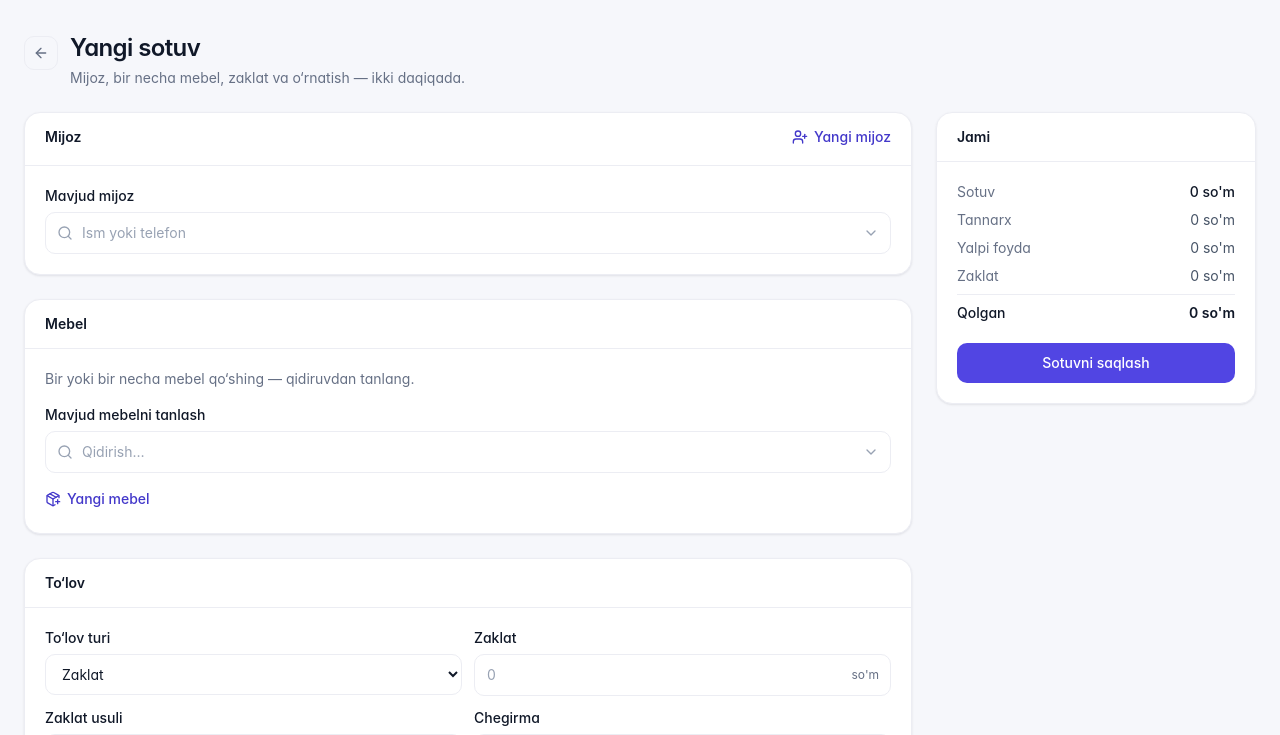
Test: NewSalePage › does not create a product when quick-create validation fails
Click the button with test id "sale-quick-product-toggle".
click(97, 499)  # box [45,489,150,509]
(page scrolled)
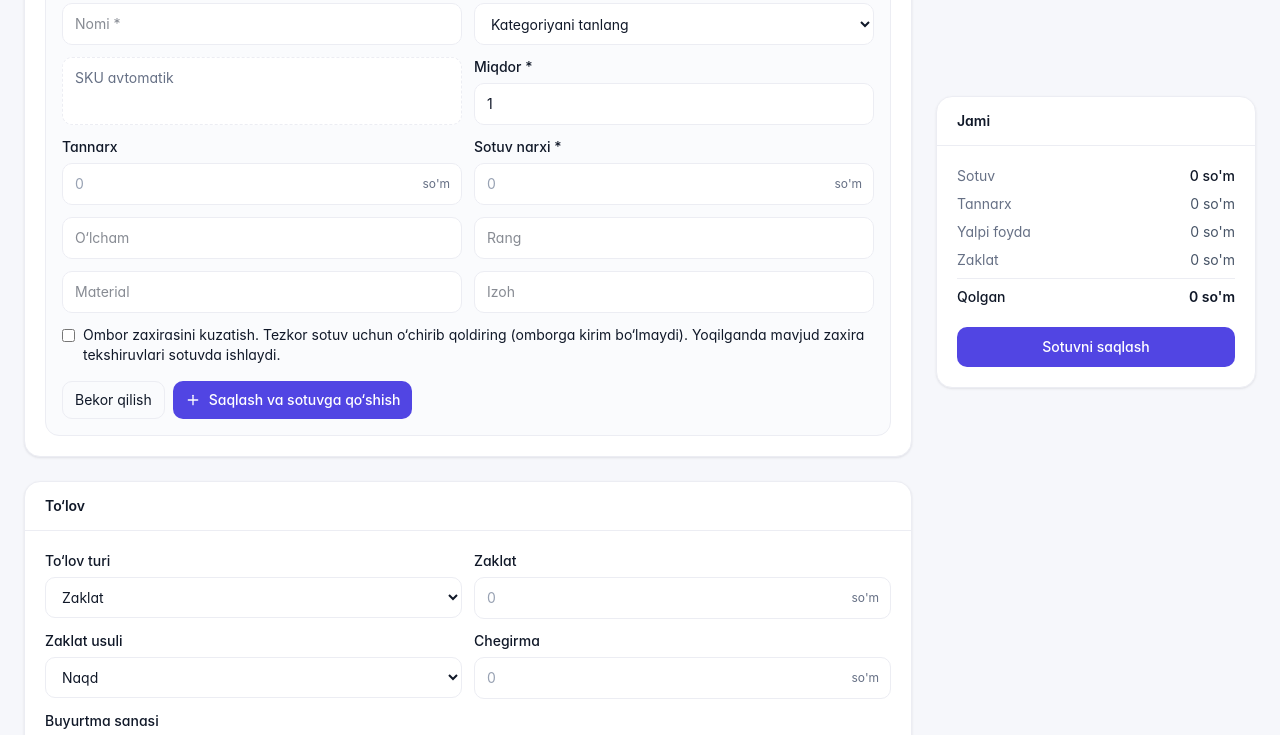
Click the button with test id "sale-quick-product-save".
click(293, 400)  # box [173,381,412,419]
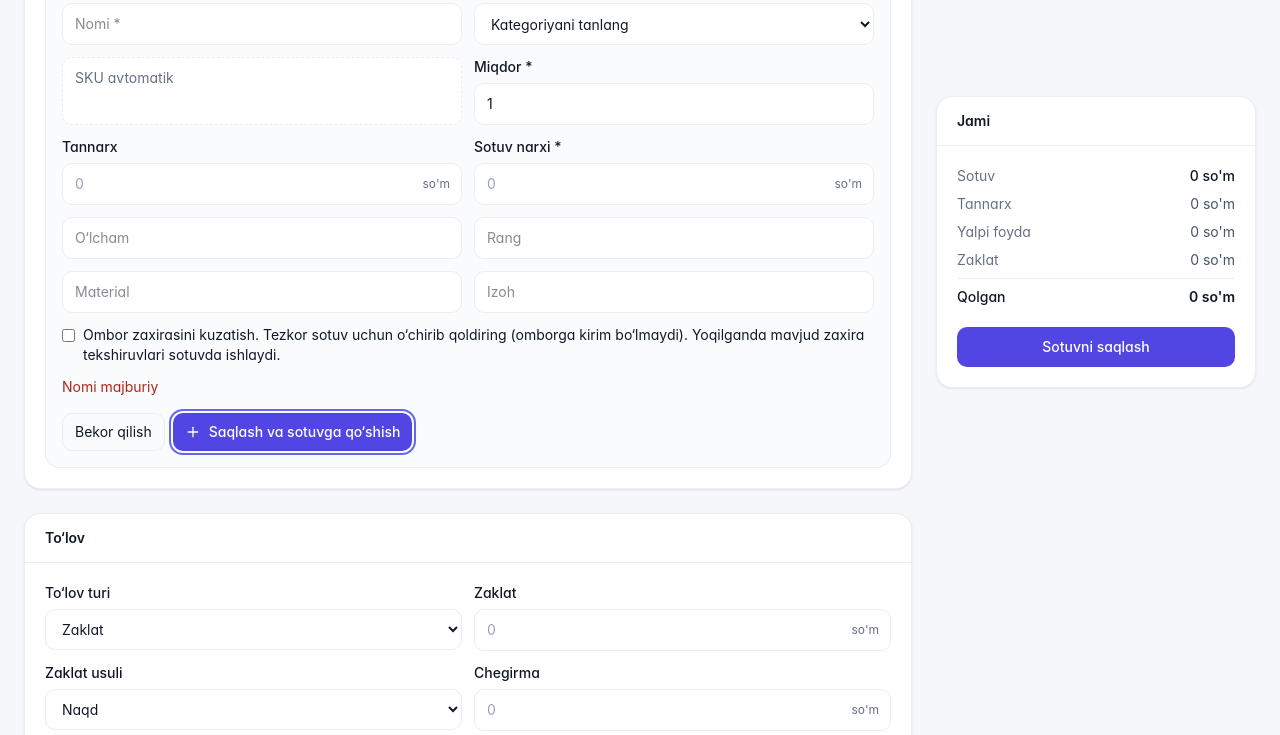
Expected: the message with test id "sale-quick-product-error" reads "Nomi majburiy", [62,378,158,395]
